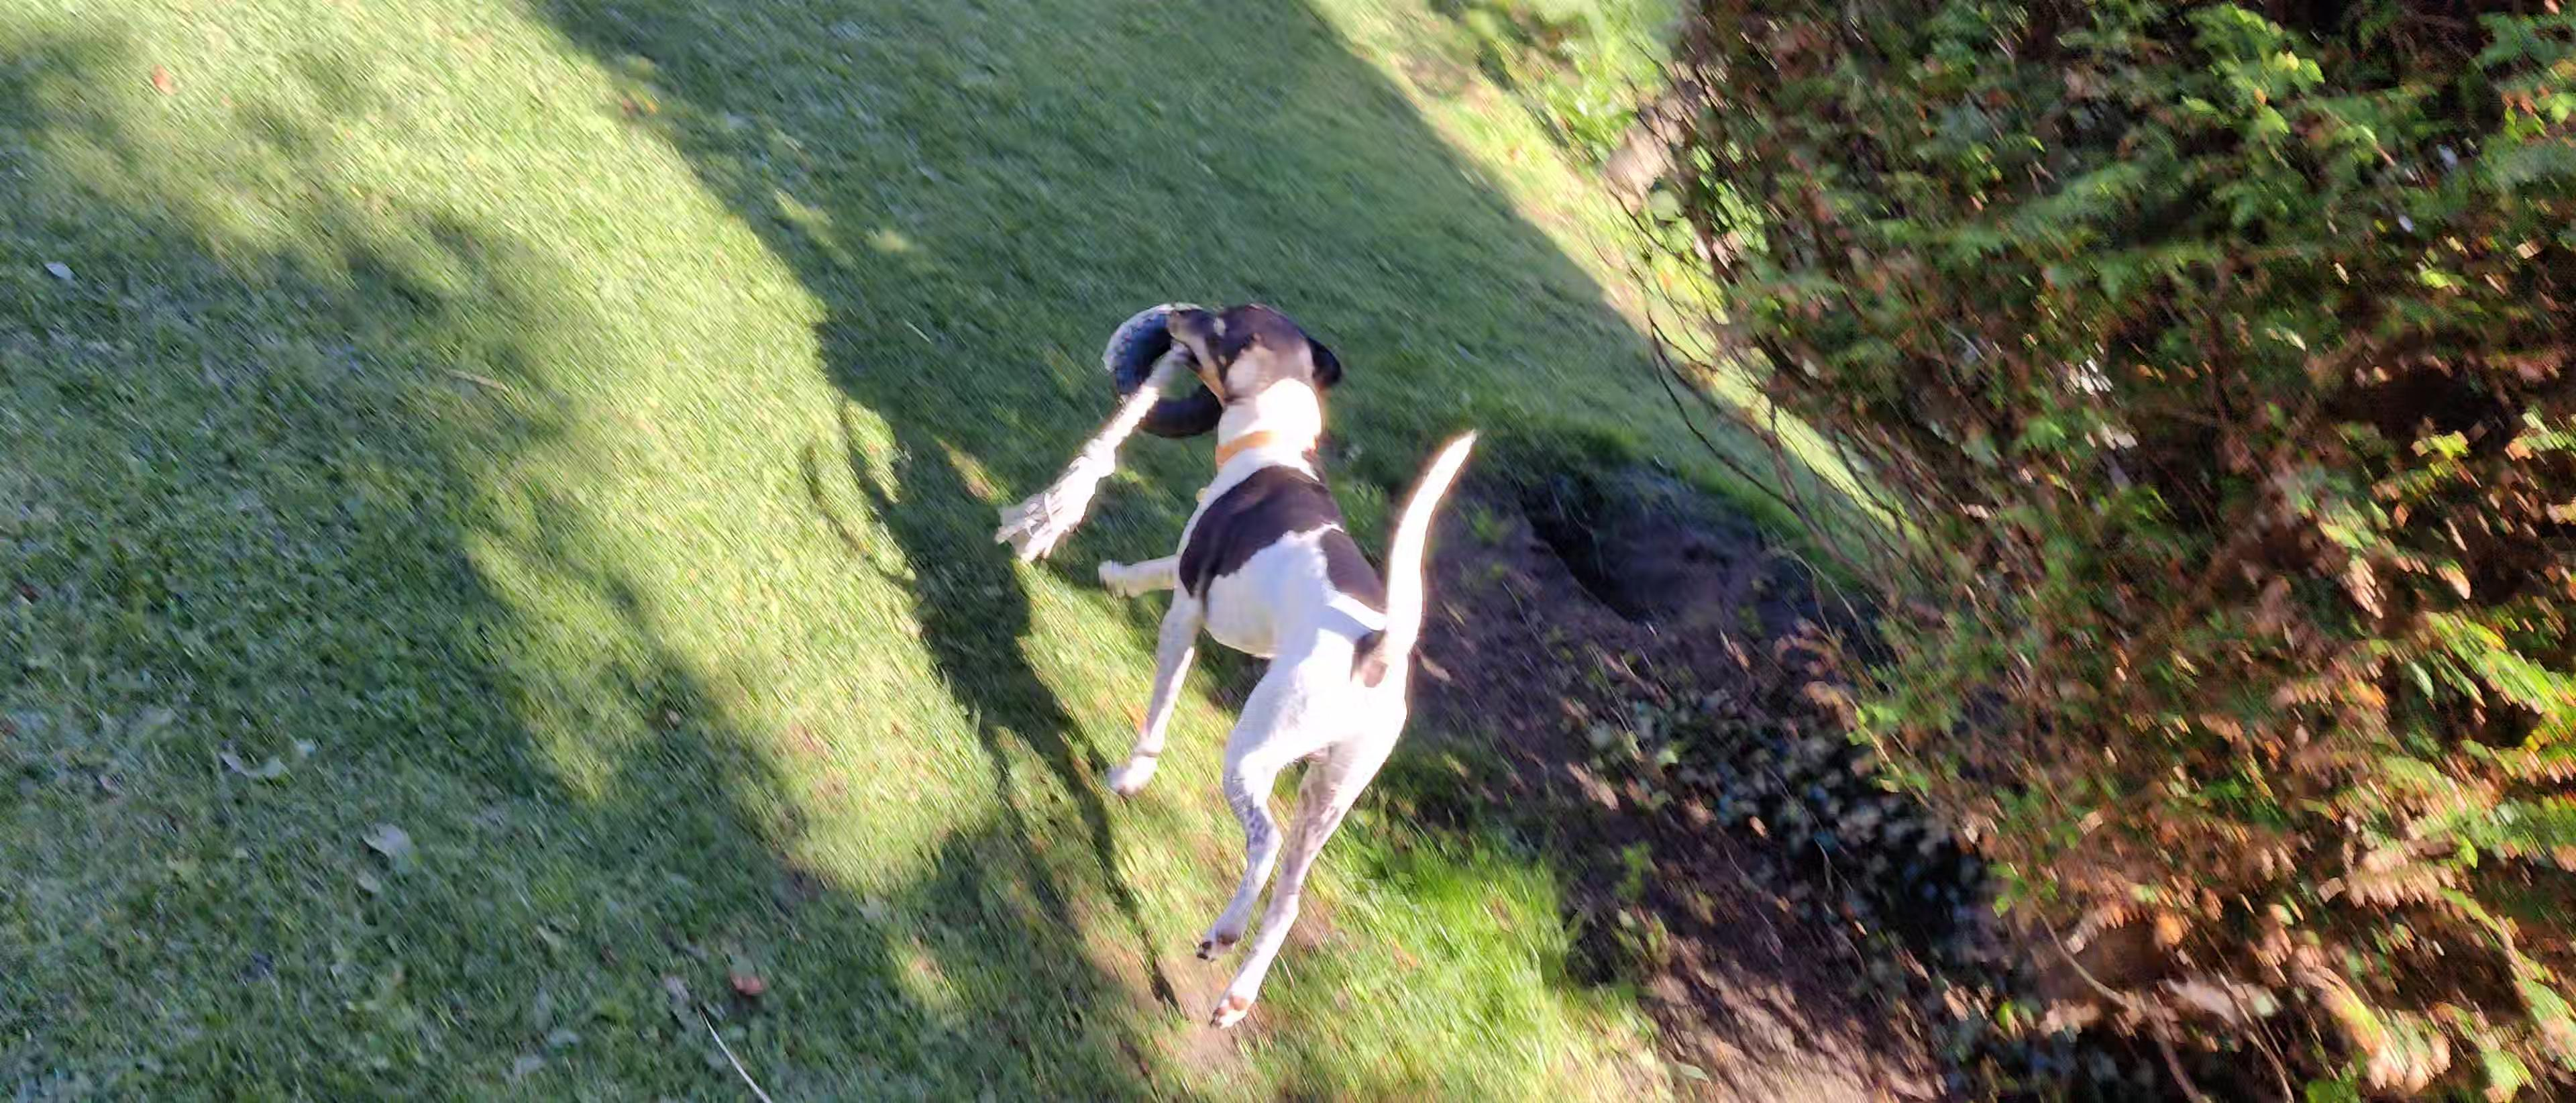Dog: (1091, 289, 1487, 1037)
